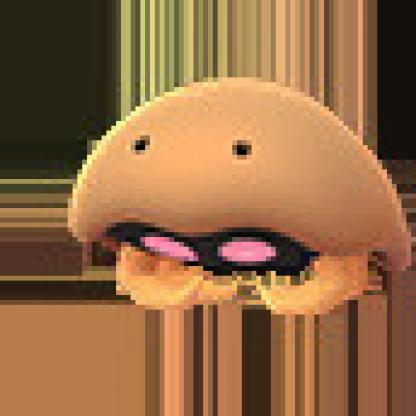Kabuto: (59, 69, 412, 325)
